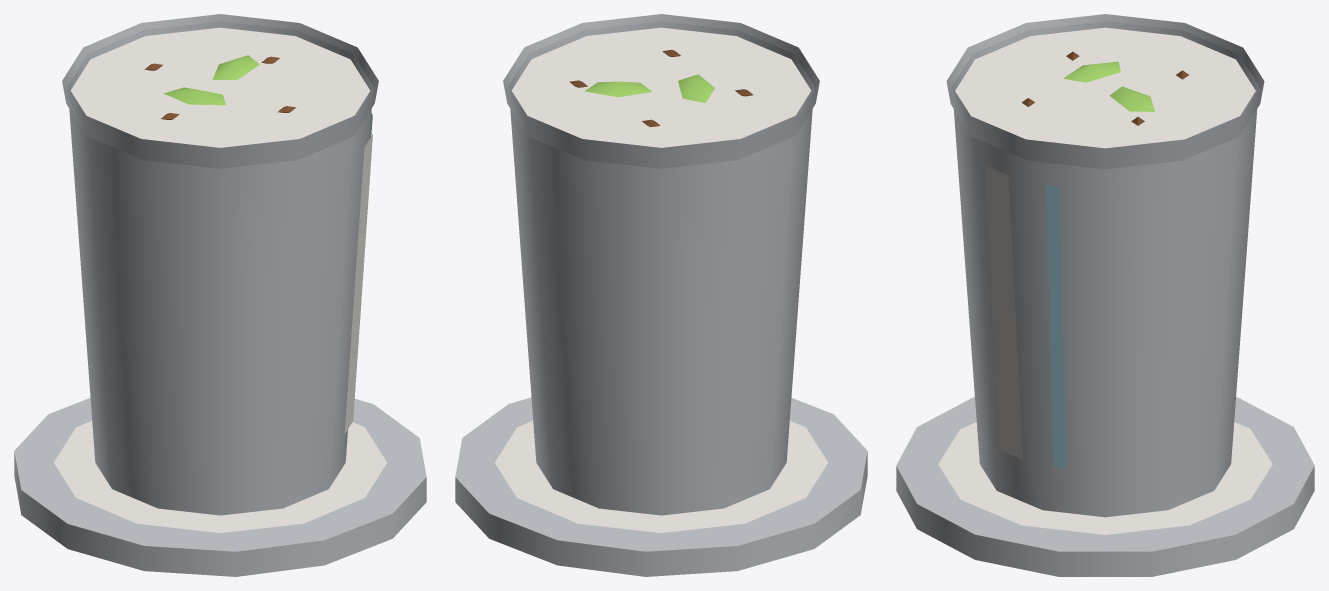
Rendered from pass_chaas.glb.
The picture shows the model from 3 angles, left to right: view 1: azimuth 30°, elevation 25°; view 2: azimuth 150°, elevation 25°; view 3: azimuth 270°, elevation 25°; orthographic projection.
Parts seen in each view (by area): view 1: pass_chaas; view 2: pass_chaas; view 3: pass_chaas.
Part boxes in pixels (box(x1,y1,x2,y2)): pass_chaas: box(14, 14, 426, 576); pass_chaas: box(455, 14, 867, 576); pass_chaas: box(896, 14, 1314, 576).
Size of the model in its own units: 0.1462 by 0.163 by 0.15.
1 material, 1 textured.
